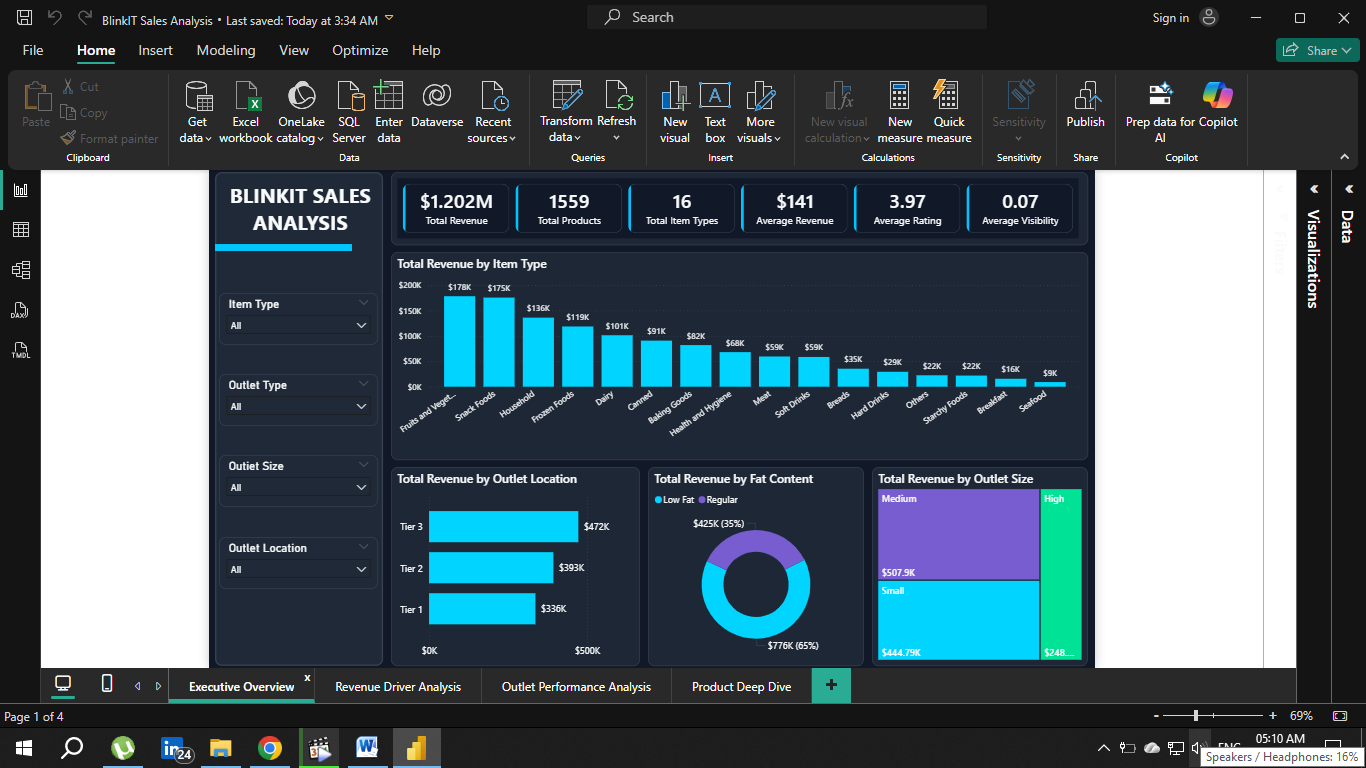

This screenshot's page, from the dashboard's own definition file:
{"tool":"powerbi","page":{"name":"Executive  Overview","canvas":[1280,720],"ordinal":0},"visuals":[{"type":"clusteredColumnChart","title":"Total Revenue by Item Type","fields":{"Category":["sales_cleaned.item_type"],"Y":["sales_cleaned.Total Revenue"]},"box":[263.1,118.6,1007.7,300.7],"z":0},{"type":"cardVisual","fields":{"Data":["sales_cleaned.Total Revenue","sales_cleaned.Total Products","sales_cleaned.Total Item Types","sales_cleaned.Average Revenue","sales_cleaned.Average Rating","sales_cleaned.Average Visibility"]},"box":[263.1,2.9,1007.7,105.5],"z":1000},{"type":"textbox","title":"BLINKIT SALES ANALYSIS","box":[8.7,2.9,242.9,714.2],"z":1500},{"type":"donutChart","title":"Total Revenue by Fat Content","fields":{"Category":["sales_cleaned.item_fat_content"],"Y":["sales_cleaned.Total Revenue"]},"box":[634.7,429.4,312.3,287.7],"z":2000},{"type":"treemap","title":"Total Revenue by Outlet Size","fields":{"Group":["sales_cleaned.outlet_size"],"Values":["sales_cleaned.Total Revenue"]},"box":[958.6,429.4,312.3,287.7],"z":3000},{"type":"clusteredBarChart","title":"Total Revenue by Outlet Location","fields":{"Category":["sales_cleaned.outlet_location"],"Y":["sales_cleaned.Total Revenue"]},"box":[263.1,429.4,360,287.7],"z":4000},{"type":"slicer","title":"Outlet Type","fields":{"Values":["sales_cleaned.outlet_type"]},"box":[14.5,295,229.9,75.2],"z":5000},{"type":"slicer","title":"Outlet Type","fields":{"Values":["sales_cleaned.item_type"]},"box":[14.5,177.4,229.9,75.2],"z":6000},{"type":"slicer","title":"Outlet Type","fields":{"Values":["sales_cleaned.outlet_size"]},"box":[14.5,412.6,229.9,75.2],"z":7000},{"type":"slicer","title":"Outlet Type","fields":{"Values":["sales_cleaned.outlet_location"]},"box":[14.5,530.2,229.9,75.2],"z":9000},{"type":"shape","box":[8.7,105.5,198.1,13],"z":10000}]}

Visuals, with their boxes on the page's 1280x720 design canvas (x1, y1, x2, y2). These are canvas units, not pixel positions in the 1366x768 screenshot, which may show the page scaled, cropped or inside an application window:
"Total Revenue by Item Type" clusteredColumnChart: select_region(263, 119, 1271, 419)
cardVisual - sales_cleaned.Total Revenue x sales_cleaned.Total Products: select_region(263, 3, 1271, 108)
"BLINKIT SALES ANALYSIS" textbox: select_region(9, 3, 252, 717)
"Total Revenue by Fat Content" donutChart: select_region(635, 429, 947, 717)
"Total Revenue by Outlet Size" treemap: select_region(959, 429, 1271, 717)
"Total Revenue by Outlet Location" clusteredBarChart: select_region(263, 429, 623, 717)
"Outlet Type" slicer: select_region(14, 295, 244, 370)
"Outlet Type" slicer: select_region(14, 177, 244, 253)
"Outlet Type" slicer: select_region(14, 413, 244, 488)
"Outlet Type" slicer: select_region(14, 530, 244, 605)
shape: select_region(9, 106, 207, 118)
